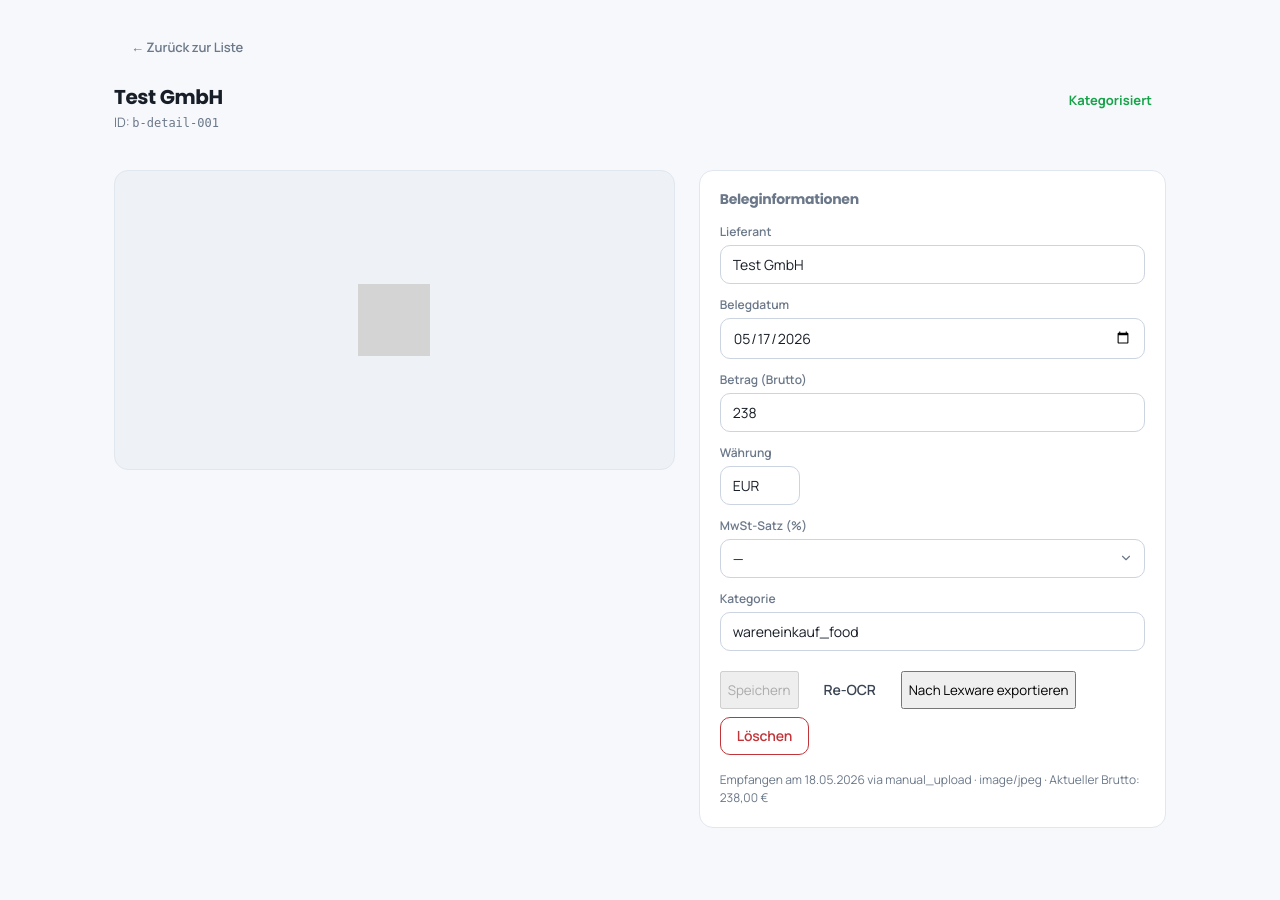
Scenario: BelegeDetailPage › T076: Export mit status skipped zeigt „Bereits exportiert"-Toast
Click the button with test id "btn-export". click: (989, 690)
box: [901,671,1076,709]
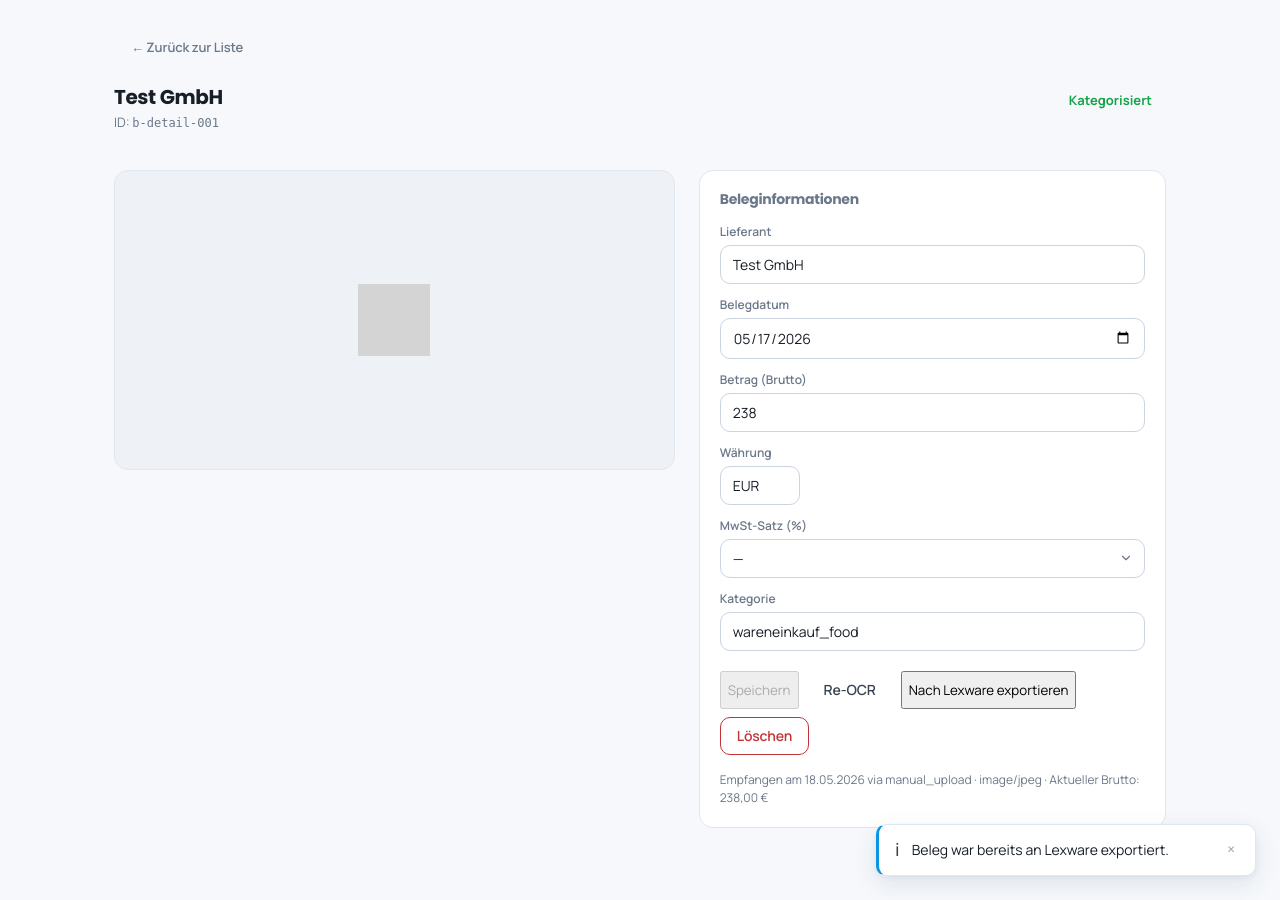
Expected: the text "Beleg war bereits an Lexware exportiert." is shown, [912,839,1211,860]
